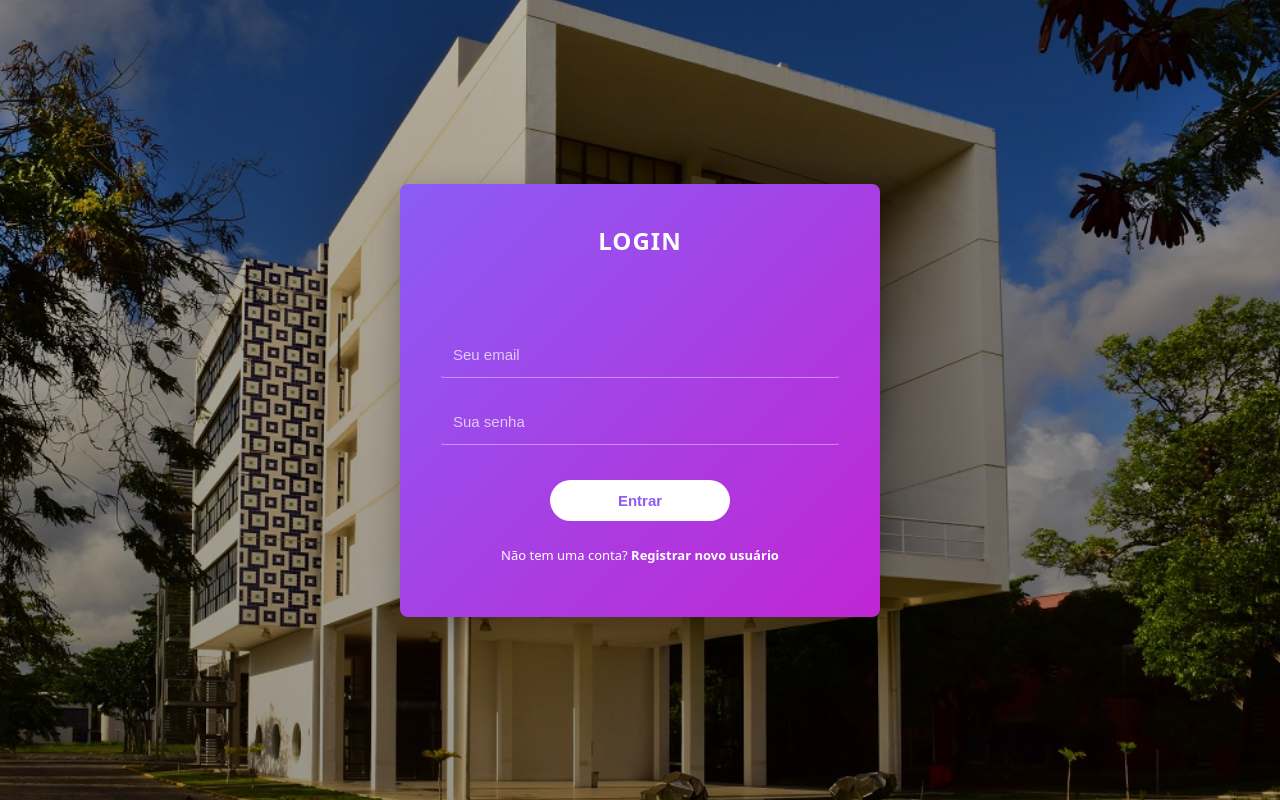
Test: Página de Login › deve exibir mensagem de erro se a API rejeitar
The width and height of the screenshot is (1280, 800).
In the field with placeholder "Seu email": (640, 354) left=453, top=342, right=827, bottom=366, type "errado@gmail.com"
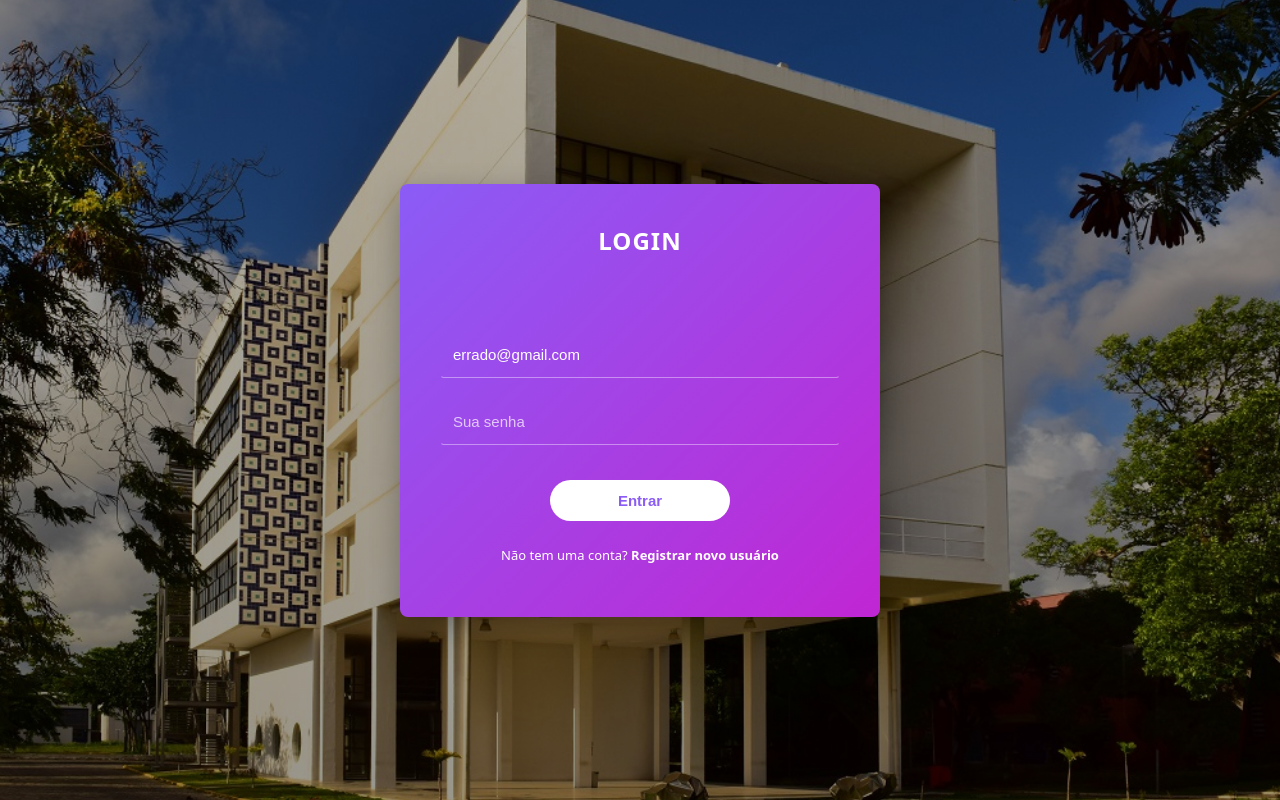
In the password field with placeholder "Sua senha": (640, 421) left=453, top=408, right=827, bottom=434, type "123"
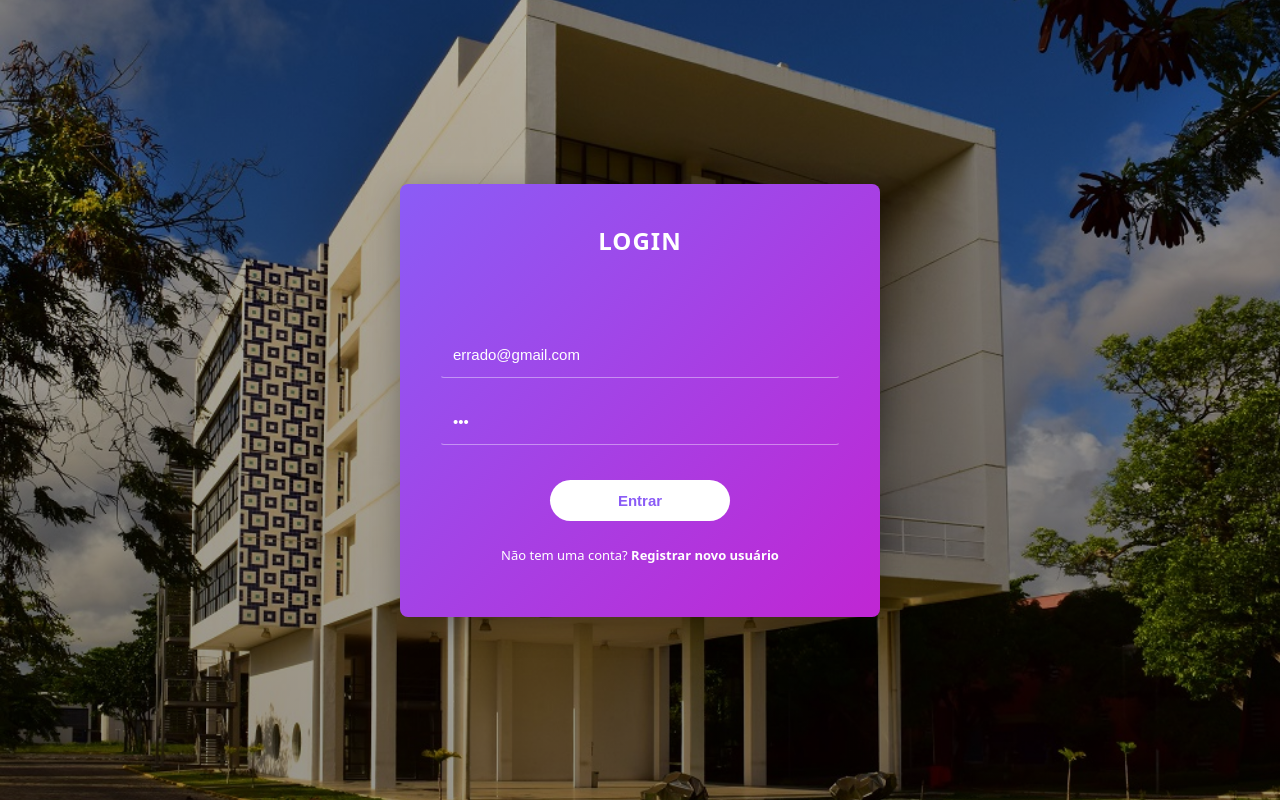
Click the button "Entrar": (640, 500) left=550, top=480, right=730, bottom=520
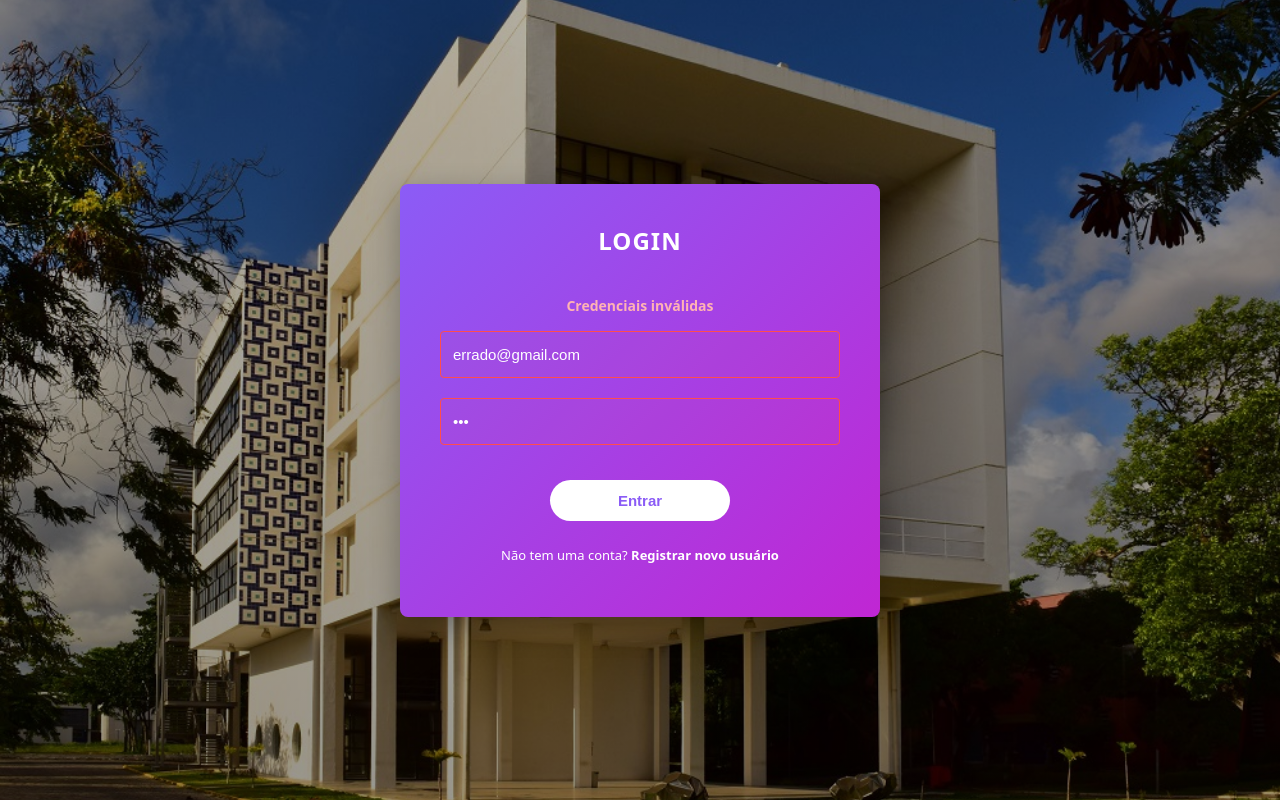
Expected: the text "Credenciais inválidas" is shown, left=566, top=296, right=714, bottom=316
